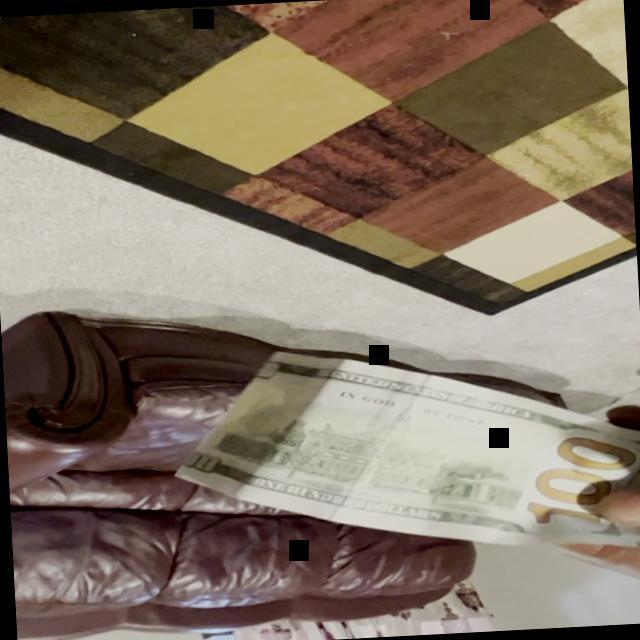hundred: (165, 330, 640, 570)
